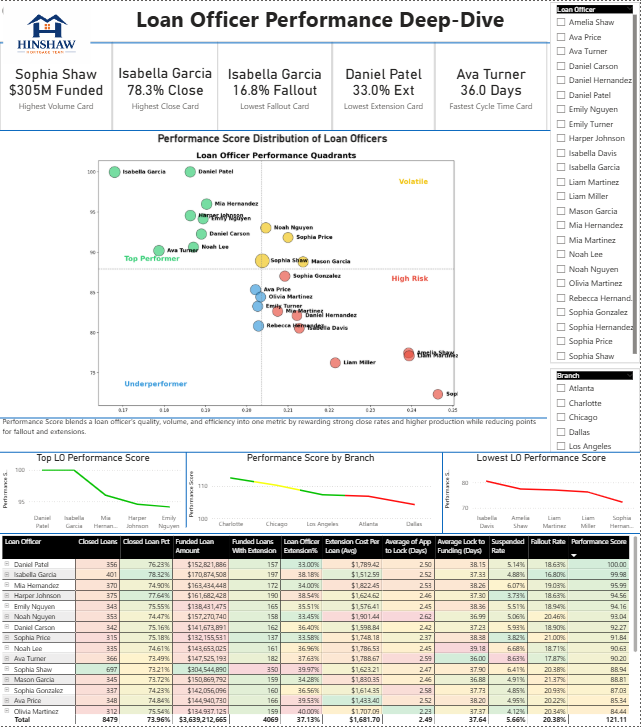

Layout of this report page (visuals, bound fields, positions):
{"tool":"powerbi","page":{"name":"Loan Officer Performance","canvas":[1280,1450],"ordinal":3},"visuals":[{"type":"pivotTable","fields":{"Rows":["public loan_extension_model.loan_officer","public loan_extension_model.loan_officer_branch"],"Values":["public loan_extension_model.Closed Loans","public loan_extension_model.Funded Rate","public loan_extension_model.Funded Loan Amount","public loan_extension_model.Funded Loans With Extension","public loan_extension_model.Loan Officer Extension%","Avg(public loan_extension_model.total_extension_cost)","Avg(public loan_extension_model.Days to Lock)","Avg(public loan_extension_model.Days Lock to Funding)","public loan_extension_model.Suspended Rate","public loan_extension_model.Fallout Rate","Calendar.Performance Score"]},"box":[0,1063.9,1280.6,386.6],"z":0},{"type":"textbox","box":[0,0,1280.6,78.8],"z":1000},{"type":"slicer","fields":{"Values":["public loan_extension_model.loan_officer"]},"box":[1100.8,2.5,179.8,721.6],"z":2000},{"type":"slicer","fields":{"Values":["public loan_extension_model.loan_officer_branch"]},"box":[1100.8,733.9,179.8,184.7],"z":3000},{"type":"card","fields":{"Values":["Calendar.Highest Volume Card"]},"box":[0,78.8,224.1,179.8],"z":4000},{"type":"card","fields":{"Values":["Calendar.Highest Close Card"]},"box":[224.1,78.8,211.8,179.8],"z":5000},{"type":"card","fields":{"Values":["Calendar.Lowest Fallout Card"]},"box":[435.9,78.8,229,179.8],"z":6000},{"type":"card","fields":{"Values":["Calendar.Lowest Extension Card"]},"box":[664.9,78.8,204.4,179.8],"z":7000},{"type":"card","fields":{"Values":["Calendar.Fastest Cycle Time Card"]},"box":[869.3,78.8,224.1,179.8],"z":8000},{"type":"actionButton","box":[0,0,101,39.4],"z":9000},{"type":"pythonVisual","title":"Performance Score Distribution of Loan Officers","fields":{"Values":["public loan_extension_model.loan_officer","public loan_extension_model.Funded Loan Amount","Calendar.Performance Score","public loan_extension_model.Fallout Rate","public loan_extension_model.Closed Loans"]},"box":[-5,262.5,1100,590],"z":10000},{"type":"lineChart","title":"Top LO Performance Score","fields":{"Category":["public loan_extension_model.loan_officer"],"Y":["Calendar.Performance Score"]},"box":[0,902.5,372.5,162.5],"z":11000},{"type":"lineChart","title":"Lowest LO Performance Score","fields":{"Y":["Calendar.Performance Score"],"Category":["public loan_extension_model.loan_officer"]},"box":[885,902.5,395,162.5],"z":12000},{"type":"lineChart","title":"Performance Score by Branch","fields":{"Y":["Calendar.Performance Score"],"Category":["public loan_extension_model.loan_officer_branch"]},"box":[372.5,902.5,497.5,162.5],"z":13000},{"type":"textbox","box":[0,825,1095,52.5],"z":14000},{"type":"shape","box":[0,0,1100,167.5],"z":15000},{"type":"shape","box":[0,876.7,1280.6,36.9],"z":16000},{"type":"shape","box":[222.5,902.5,300,150],"z":17000},{"type":"shape","box":[735,902.5,300,162.5],"z":18000},{"type":"shape","box":[2.5,1041.7,1278.1,22.2],"z":19000},{"type":"image","box":[0,0,187.5,125],"z":20000},{"type":"shape","box":[0,110.8,1100.8,298],"z":21000},{"type":"shape","box":[0,795.4,1093.4,29.6],"z":22000}]}

Visuals, with their boxes in screenshot pixels (x1, y1, x2, y2), scaled from the page's 1280x1450 canvas onto the 641x727 screenshot:
pivotTable - public loan_extension_model.loan_officer x public loan_extension_model.loan_officer_branch: (left=0, top=533, right=640, bottom=726)
textbox: (left=0, top=0, right=640, bottom=40)
slicer - public loan_extension_model.loan_officer: (left=551, top=1, right=640, bottom=363)
slicer - public loan_extension_model.loan_officer_branch: (left=551, top=368, right=640, bottom=461)
card - Calendar.Highest Volume Card: (left=0, top=40, right=112, bottom=130)
card - Calendar.Highest Close Card: (left=112, top=40, right=218, bottom=130)
card - Calendar.Lowest Fallout Card: (left=218, top=40, right=333, bottom=130)
card - Calendar.Lowest Extension Card: (left=333, top=40, right=435, bottom=130)
card - Calendar.Fastest Cycle Time Card: (left=435, top=40, right=548, bottom=130)
actionButton: (left=0, top=0, right=51, bottom=20)
"Performance Score Distribution of Loan Officers" pythonVisual: (left=0, top=132, right=548, bottom=427)
"Top LO Performance Score" lineChart: (left=0, top=452, right=187, bottom=534)
"Lowest LO Performance Score" lineChart: (left=443, top=452, right=640, bottom=534)
"Performance Score by Branch" lineChart: (left=187, top=452, right=436, bottom=534)
textbox: (left=0, top=414, right=548, bottom=440)
shape: (left=0, top=0, right=551, bottom=84)
shape: (left=0, top=440, right=640, bottom=458)
shape: (left=111, top=452, right=262, bottom=528)
shape: (left=368, top=452, right=518, bottom=534)
shape: (left=1, top=522, right=640, bottom=533)
image: (left=0, top=0, right=94, bottom=63)
shape: (left=0, top=56, right=551, bottom=205)
shape: (left=0, top=399, right=548, bottom=414)
